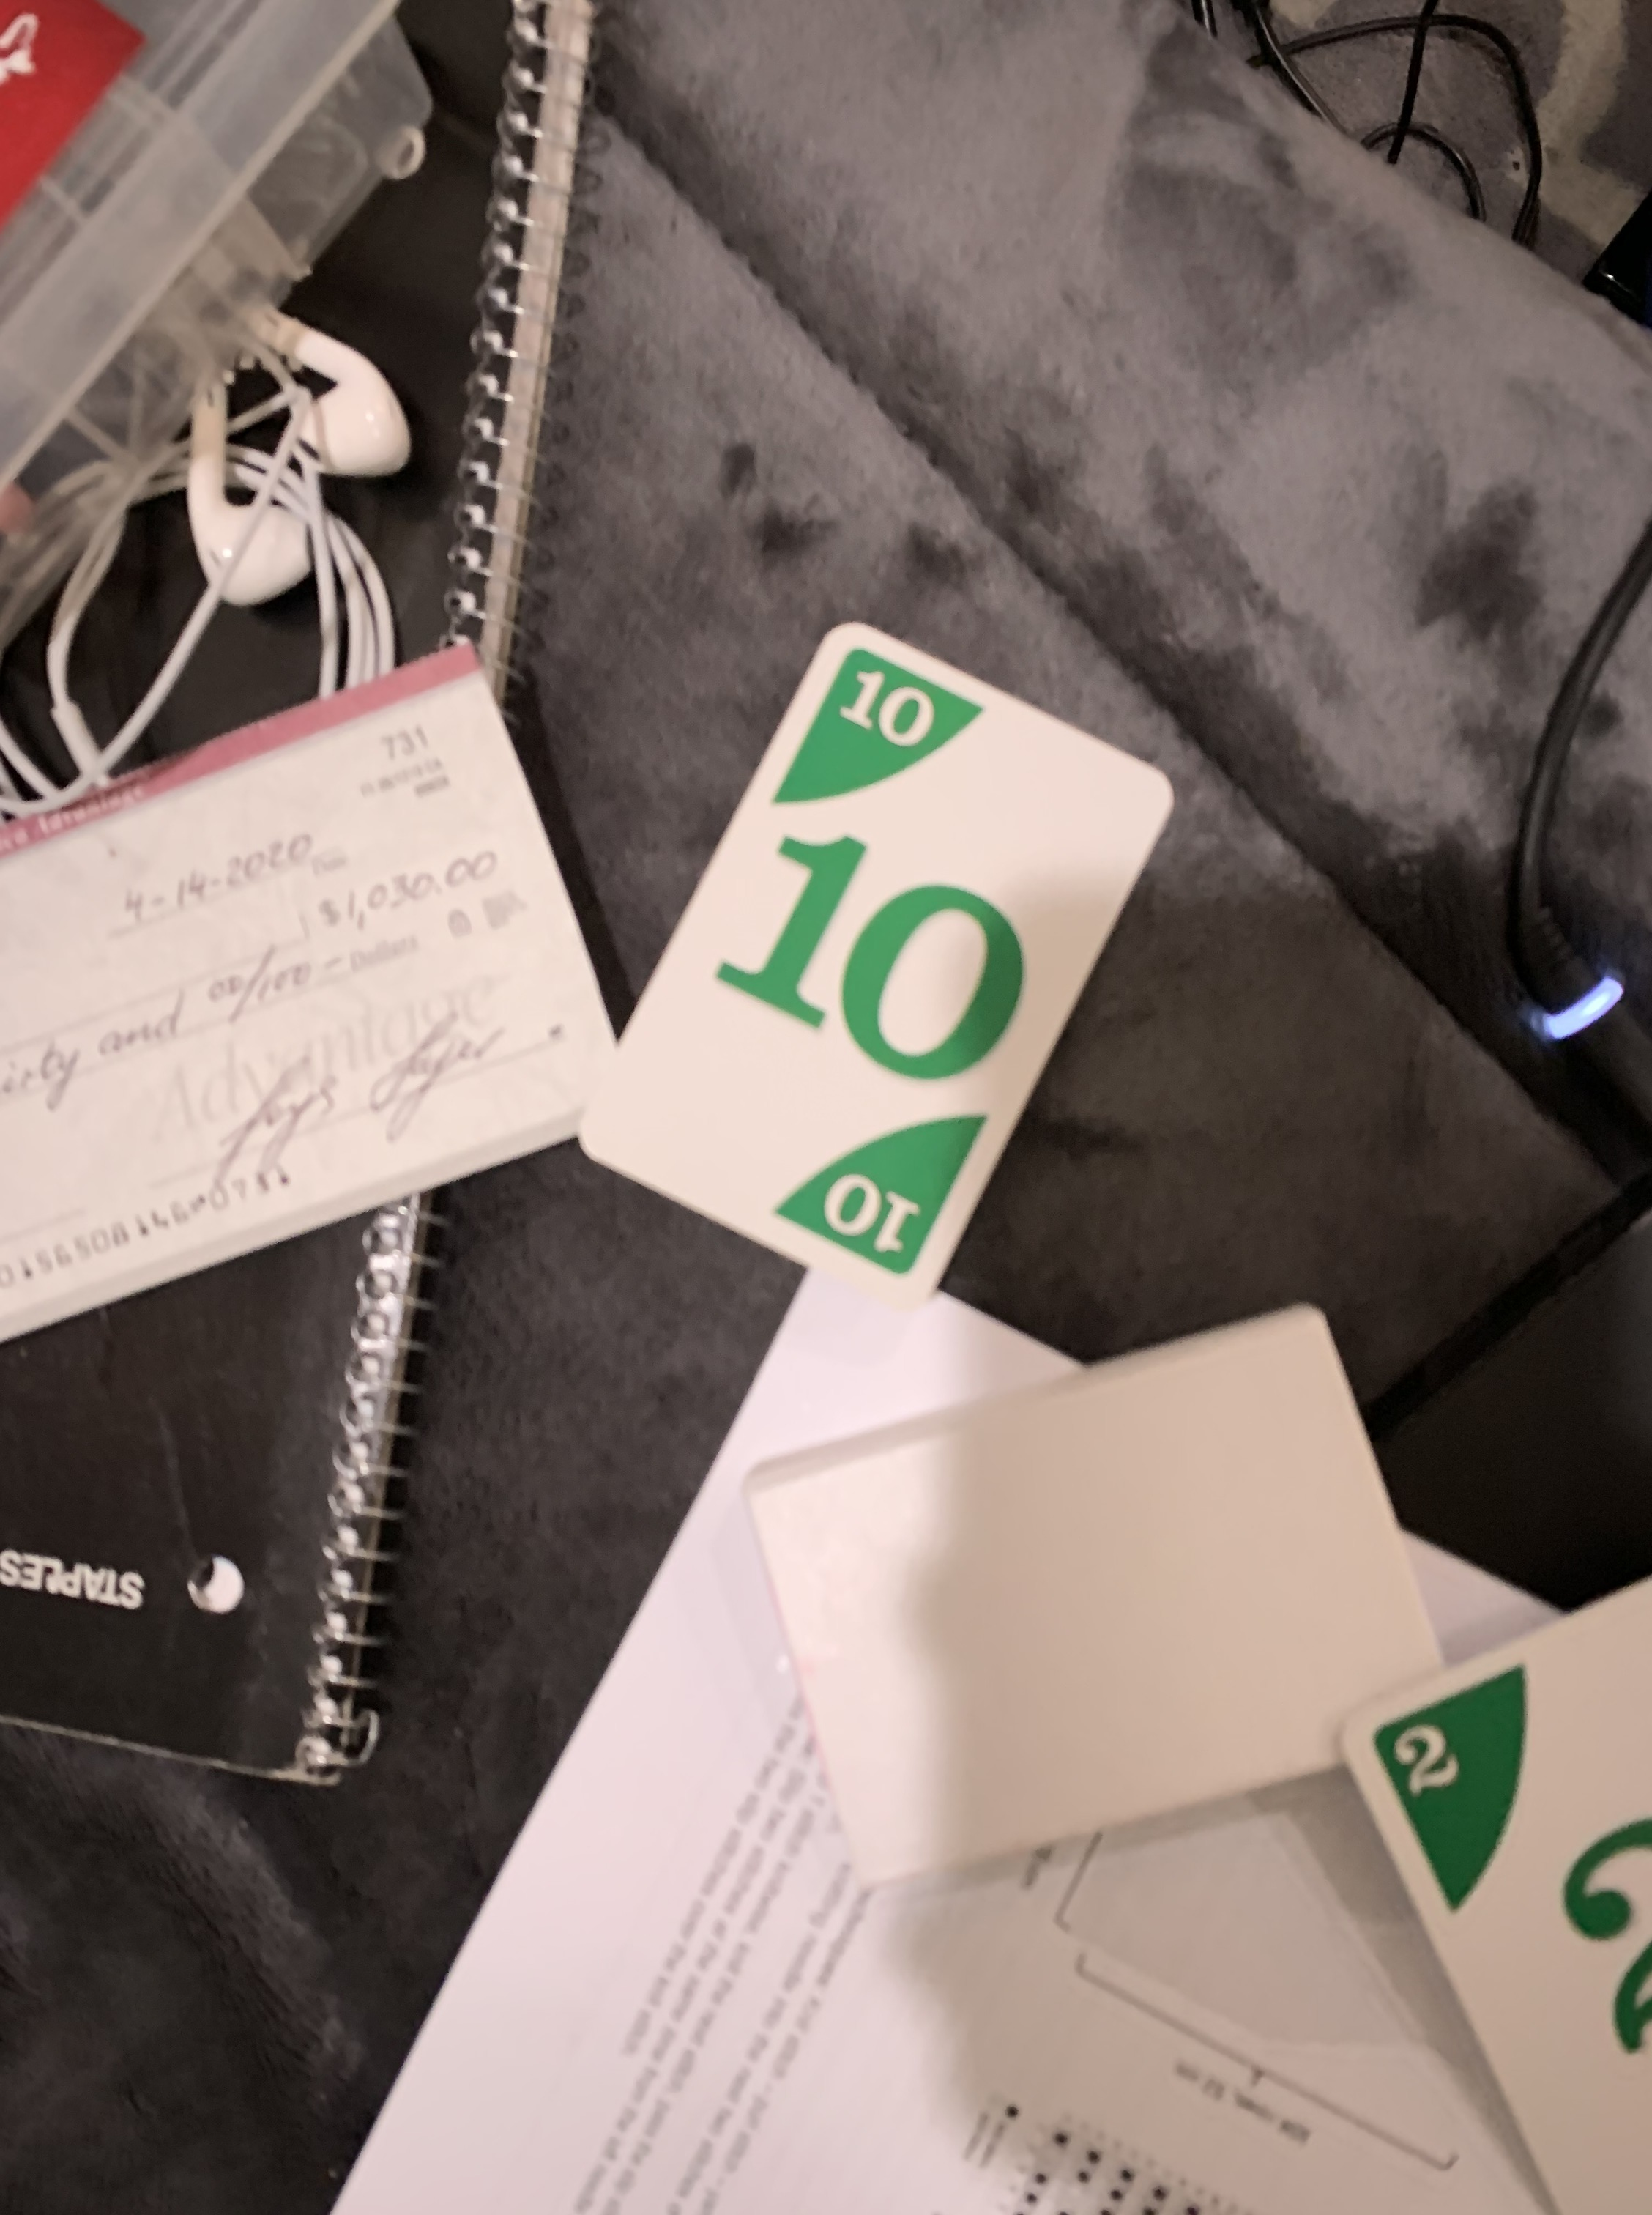ten: (560, 606, 1204, 1331)
